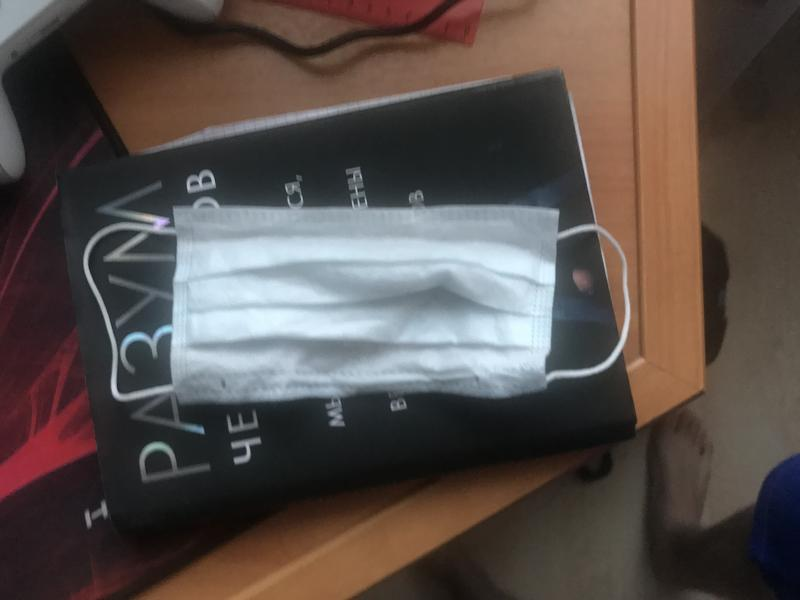medical_mask: (81, 210, 630, 401)
